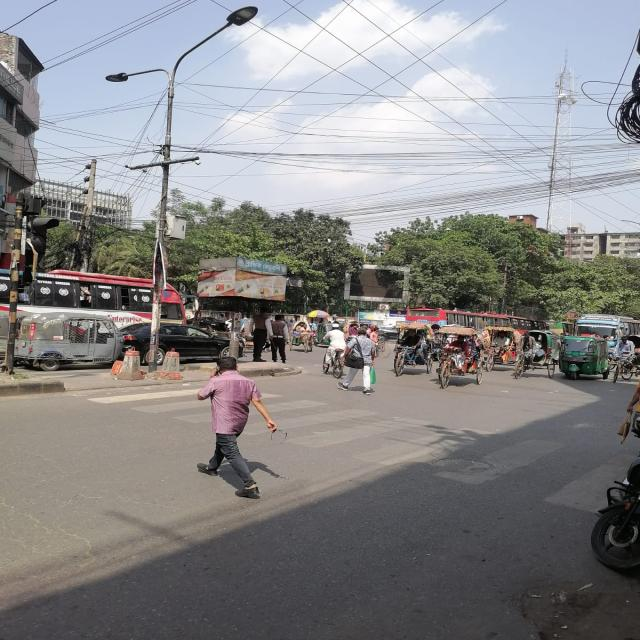person: (197, 356, 277, 499), (338, 328, 376, 395)
